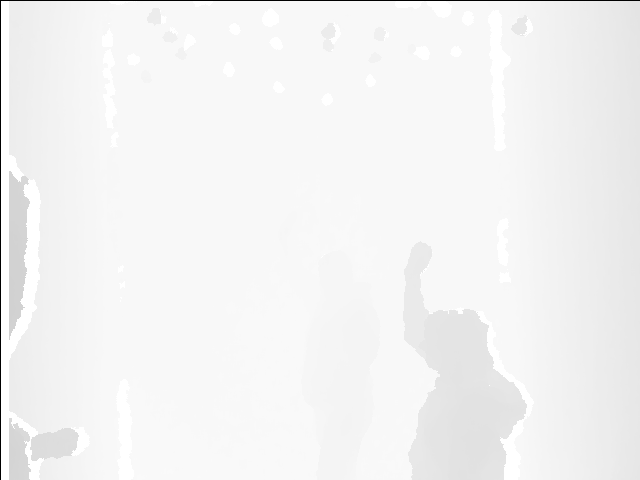hand: (406, 238, 434, 279)
